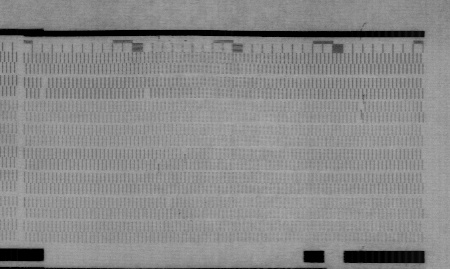Broken hole: (38, 78, 49, 98), (164, 197, 176, 211), (143, 87, 153, 99)
Oblique printing: (354, 109, 366, 124), (153, 158, 164, 173), (179, 148, 190, 162), (356, 99, 367, 112)
